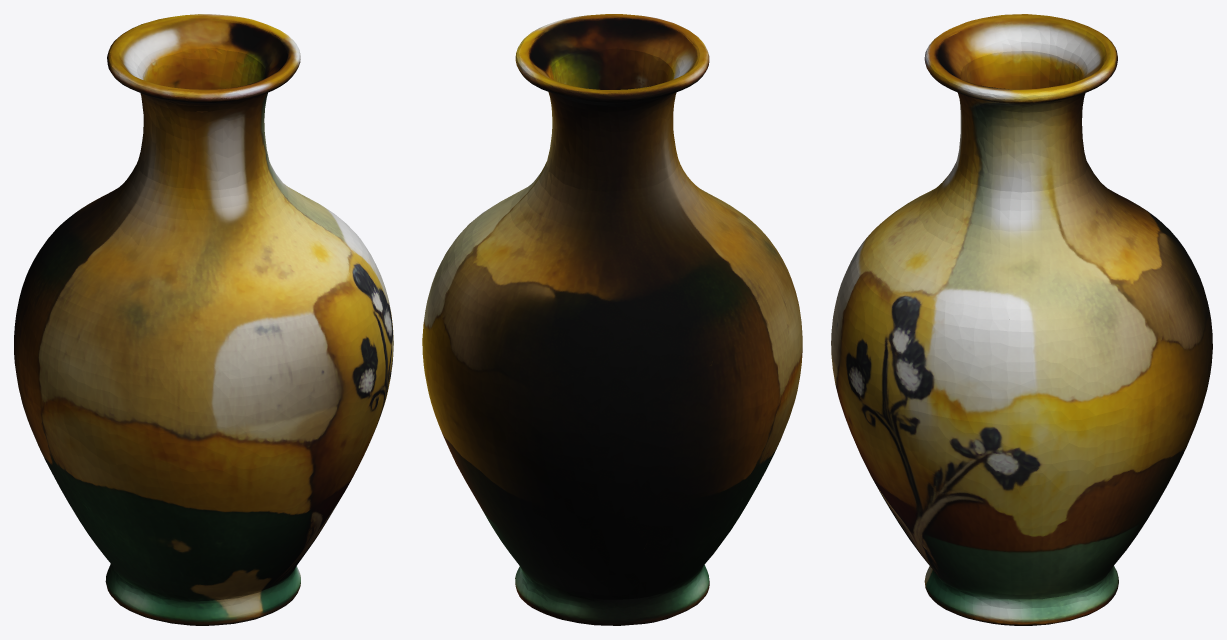
Rendered from ceramic-painted-vase-used-rustic-worn.jpeg.glb.
The picture shows the model from 3 angles, left to right: view 1: azimuth 30°, elevation 25°; view 2: azimuth 150°, elevation 25°; view 3: azimuth 270°, elevation 25°; orthographic projection.
Visible parts, largest first — view 1: world; view 2: world; view 3: world.
Boxes of the visible parts, x1,y1,x2,y2 form: world: (14,14,393,625); world: (422,14,802,625); world: (831,14,1212,625).
Bounding box in the file's own units: 0.6477 × 0.9999 × 0.6492.
1 material, 1 textured.
